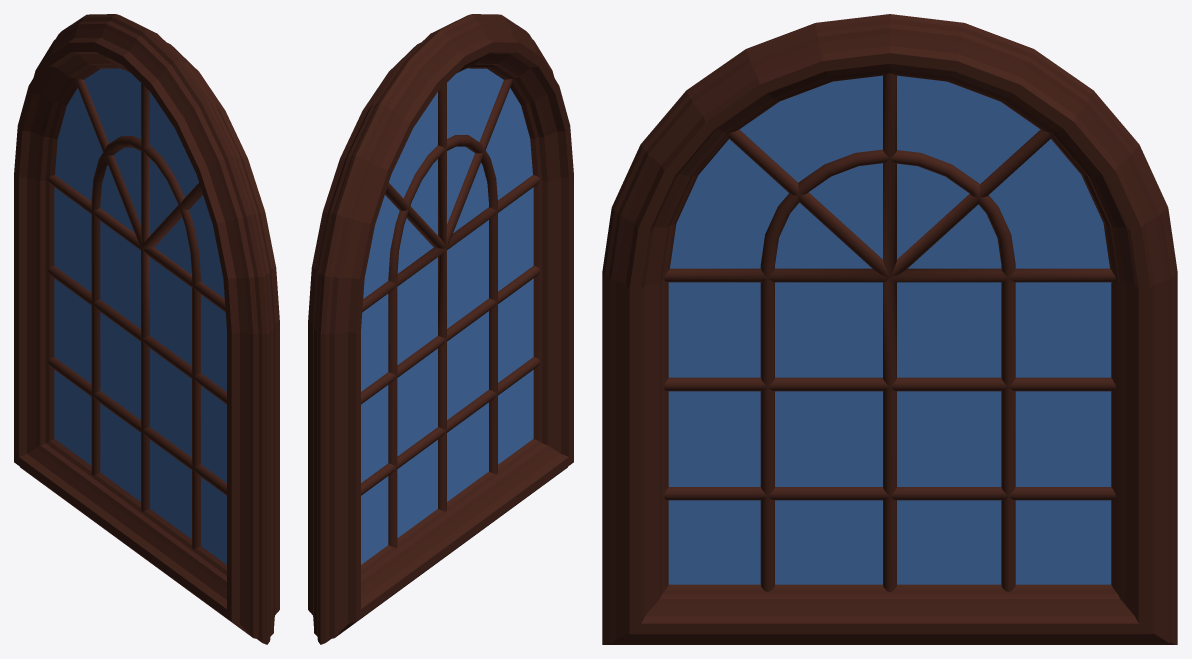
File: Arch_Window2.fbx
3 views of the same model, side by side, from view 1: azimuth 30°, elevation 25°; view 2: azimuth 150°, elevation 25°; view 3: azimuth 270°, elevation 25° (orthographic). The views are drawn at different scales.
Visible parts, largest first — view 1: Frame, Glass.003, Inner Rim.004, Outer rim.006; view 2: Frame, Glass.003, Inner Rim.004, Outer rim.006; view 3: Glass.003, Frame, Inner Rim.004, Outer rim.006.
Boxes of the visible parts, x1,y1,x2,y2 form: Frame: (14, 14, 279, 644); Glass.003: (54, 68, 226, 564); Inner Rim.004: (47, 79, 226, 511); Outer rim.006: (91, 136, 200, 548); Frame: (308, 14, 573, 644); Glass.003: (361, 68, 533, 564); Inner Rim.004: (361, 79, 540, 511); Outer rim.006: (388, 135, 497, 547); Glass.003: (668, 75, 1111, 584); Frame: (602, 14, 1177, 644); Inner Rim.004: (663, 73, 1116, 591); Outer rim.006: (760, 149, 1015, 592).
Size of the model in its own units: 17.08 by 179 by 148.
